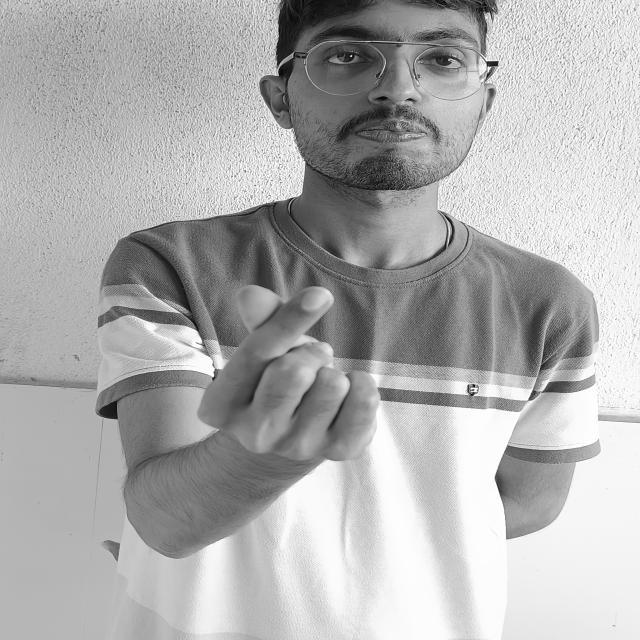Grattitude: (158, 272, 434, 480)
